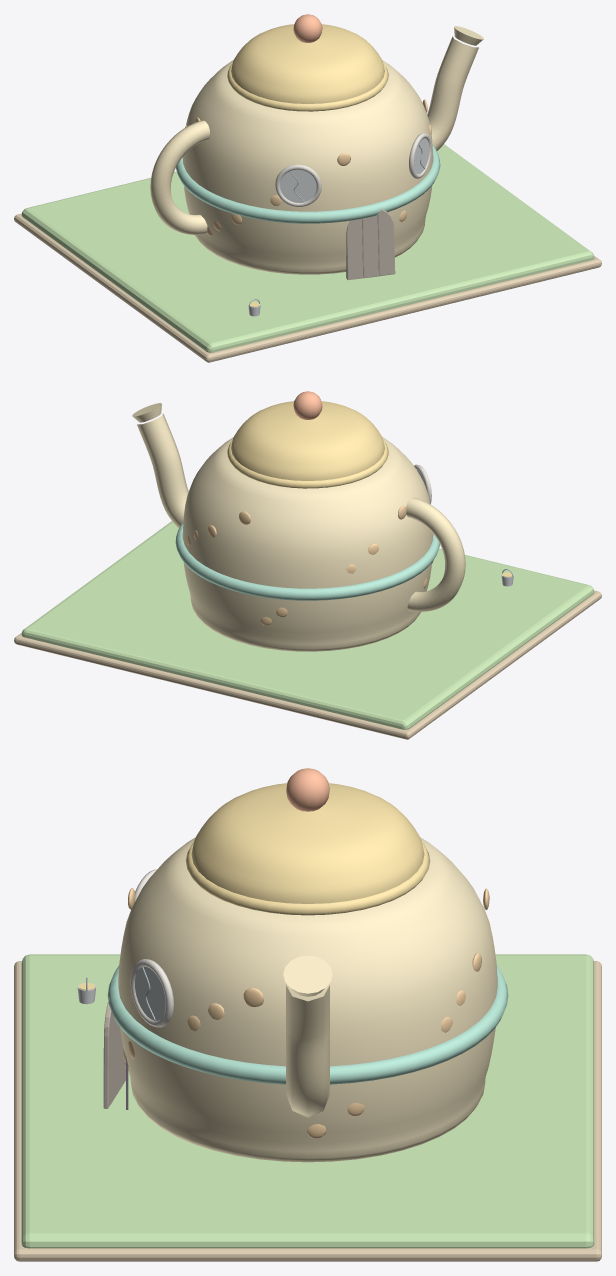
Rendered from building_kitchen_L04.glb.
3 renders of one model, top to bottom at view 1: azimuth 30°, elevation 25°; view 2: azimuth 150°, elevation 25°; view 3: azimuth 270°, elevation 25°, orthographic. The views are drawn at different scales.
Visible parts, largest first — view 1: Body, kitchen_L4; view 2: Body, kitchen_L4; view 3: Body, kitchen_L4.
Boxes of the visible parts, box(x1,y1,x2,y2) form: Body: box(150, 14, 483, 280); kitchen_L4: box(14, 144, 601, 362); Body: box(132, 391, 465, 651); kitchen_L4: box(14, 521, 601, 739); Body: box(103, 768, 508, 1162); kitchen_L4: box(14, 954, 601, 1261).
Size of the model in its own units: 26.61 by 14.72 by 22.6.
